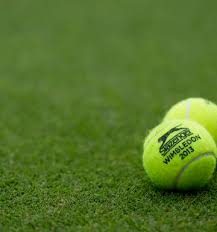tennis_ball: (143, 118, 216, 191), (161, 98, 217, 151)
